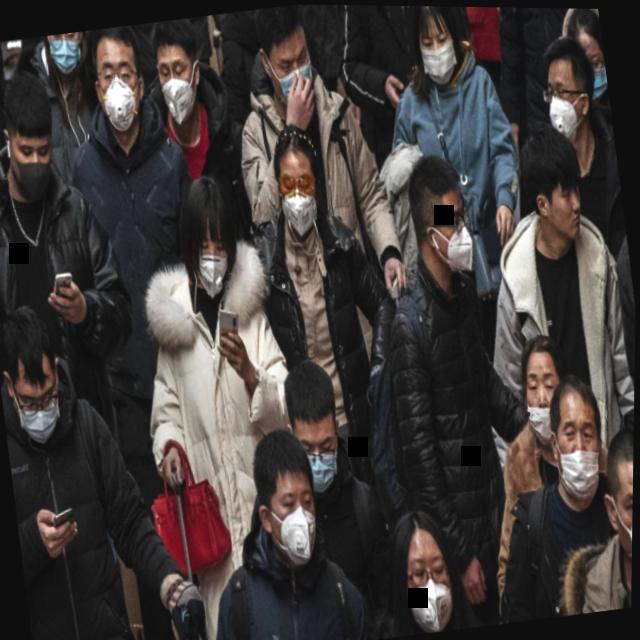Mask: (240, 419, 336, 577), (0, 288, 81, 452), (274, 351, 358, 502), (381, 500, 471, 637), (400, 147, 488, 286), (537, 362, 619, 508), (169, 165, 252, 307), (0, 62, 68, 213), (265, 113, 340, 246), (533, 28, 609, 150), (512, 322, 580, 451), (145, 17, 216, 134), (83, 29, 154, 144), (249, 6, 323, 116), (592, 417, 635, 583), (405, 5, 473, 93), (45, 33, 87, 79)
NO-Mask: (513, 119, 593, 251)
